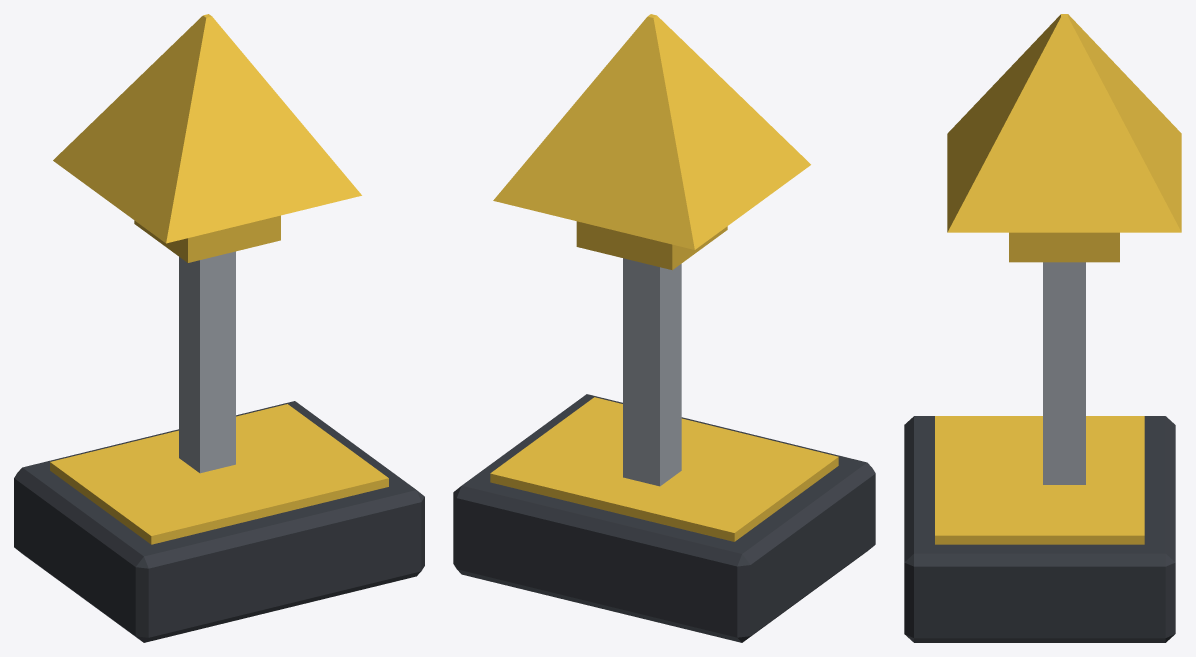
Rendered from delegation_m0_1.glb.
3 views of the same model, side by side, from view 1: azimuth 30°, elevation 25°; view 2: azimuth 150°, elevation 25°; view 3: azimuth 270°, elevation 25° (orthographic). The views are drawn at different scales.
Parts seen in each view (by area): view 1: delegation_m0_1_mesh; view 2: delegation_m0_1_mesh; view 3: delegation_m0_1_mesh.
Part boxes in pixels (box(x1,y1,x2,y2)): delegation_m0_1_mesh: box(14, 14, 424, 642); delegation_m0_1_mesh: box(453, 14, 875, 642); delegation_m0_1_mesh: box(904, 14, 1181, 642).
Size of the model in its own units: 0.28 by 0.5 by 0.225.
